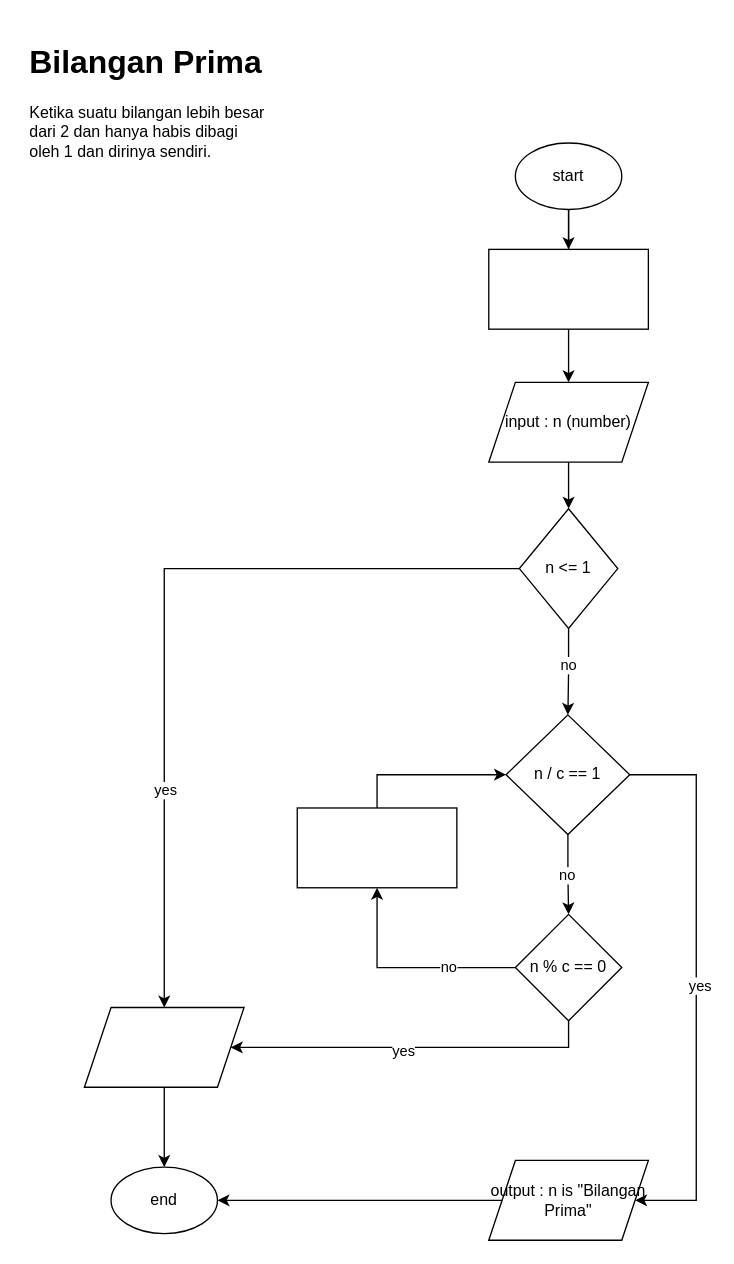
Image size: 734x1264. Some labels were removed from this diagram. The shapes that lost their labels are listed below. From the top down, each one's centre as x and y in pixels, then its label:
(x=567, y=288): var n int var c int = 2
(x=376, y=847): c++
(x=163, y=1046): output : n is not "Bilangan Prima"
